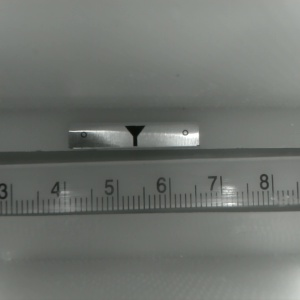3: (0, 183, 8, 199)
4: (49, 183, 60, 198)
5: (103, 179, 113, 195)
6: (156, 177, 166, 193)
7: (207, 176, 217, 191)
8: (258, 173, 268, 189)
finger: (123, 126, 144, 147)
